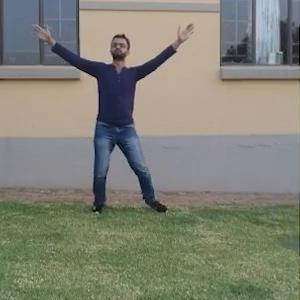takeoff: (42, 19, 213, 238)
